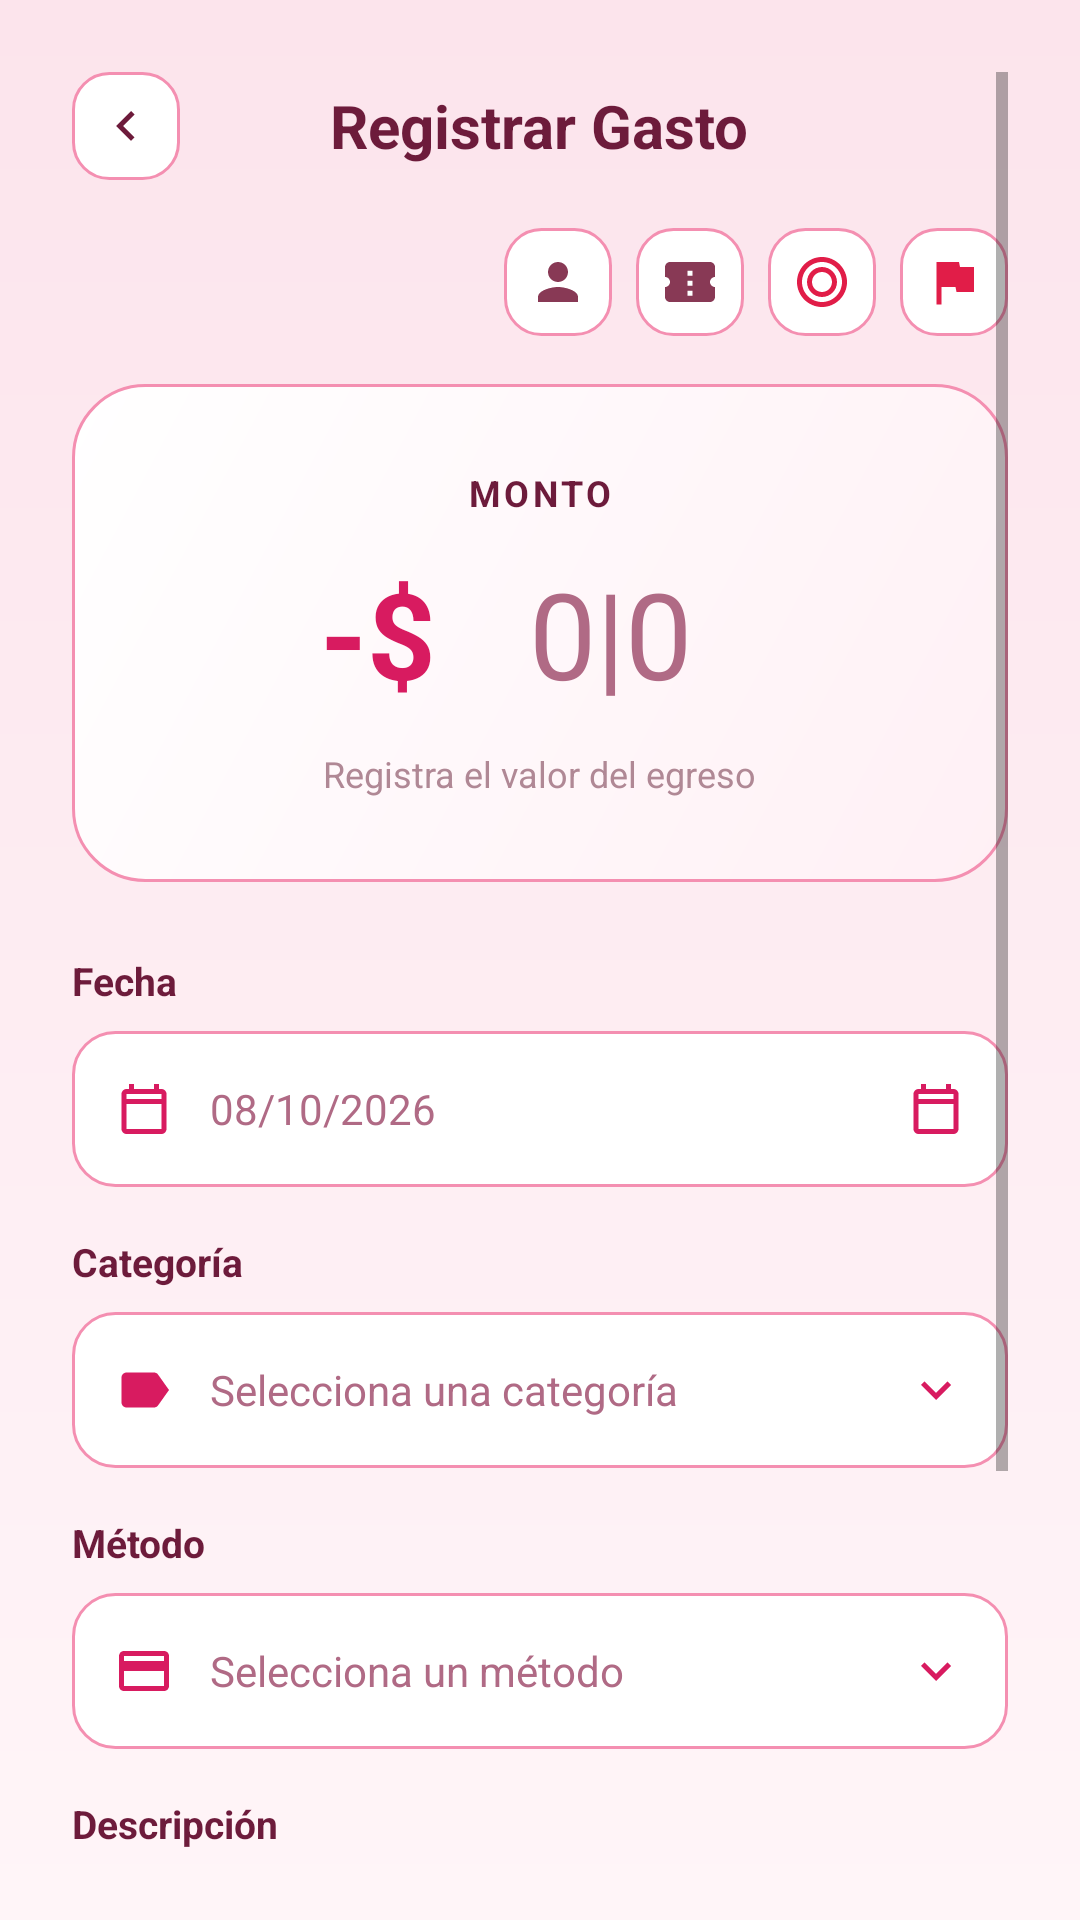

Icons on this 1080px×1920px Android screen, each with the point to tap as (x=x, y=y):
back: (x=126, y=126)
Perfil: (x=558, y=282)
